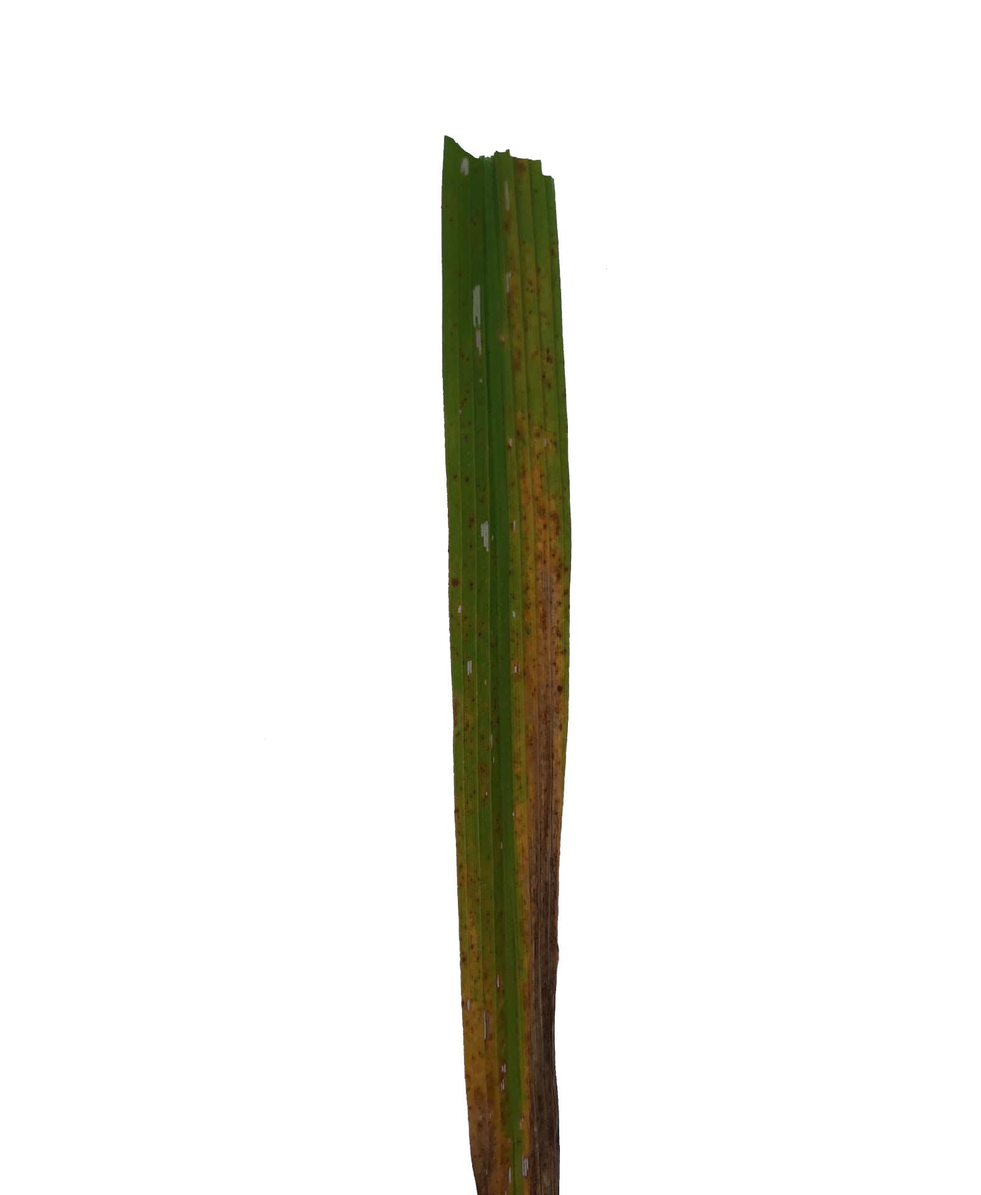Rice blast: (507, 227, 572, 1195)
Tungro: (504, 179, 564, 505)
